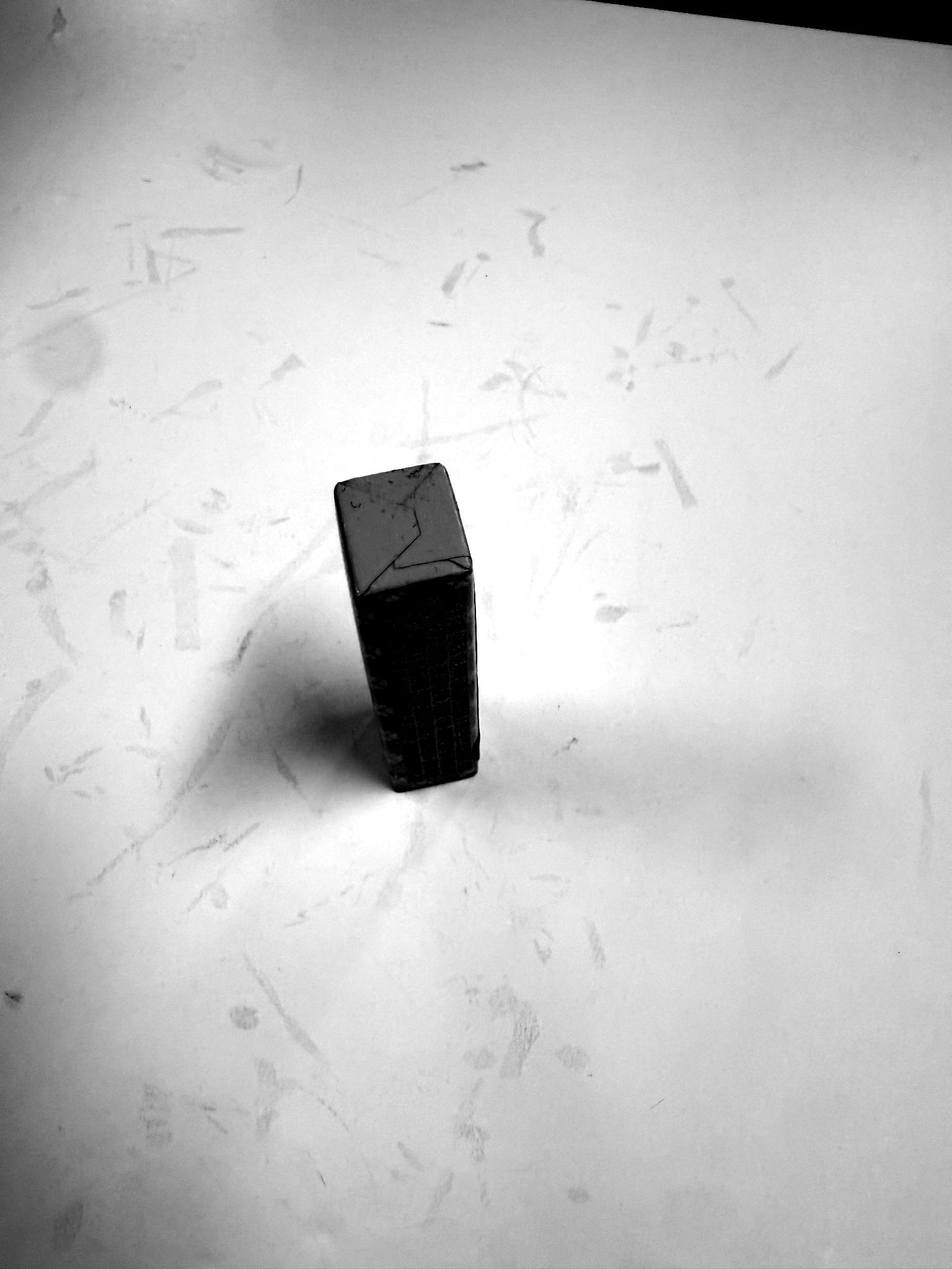gum_yellow: (335, 461, 479, 784)
